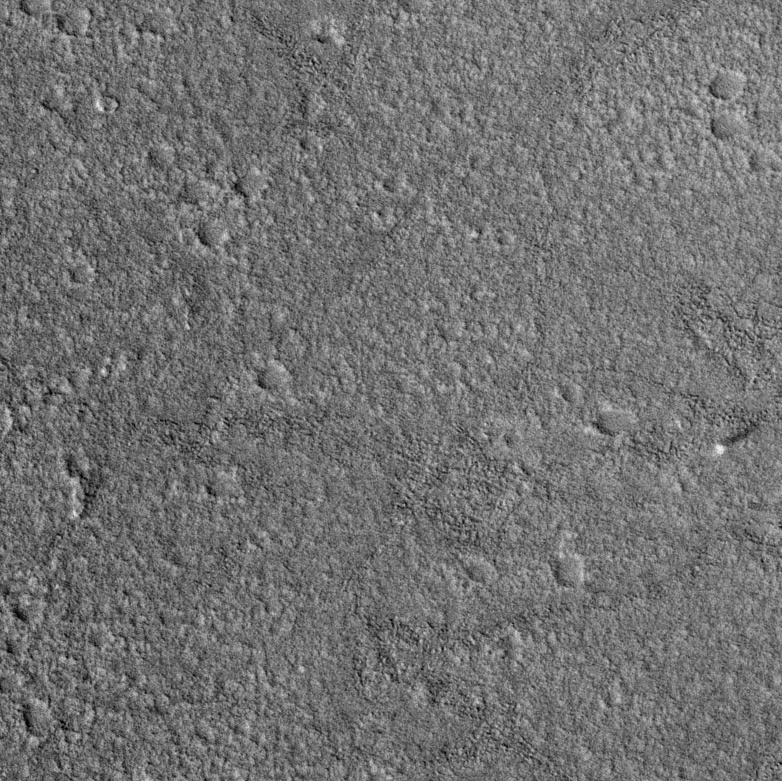dust_devil: (714, 419, 762, 456)
